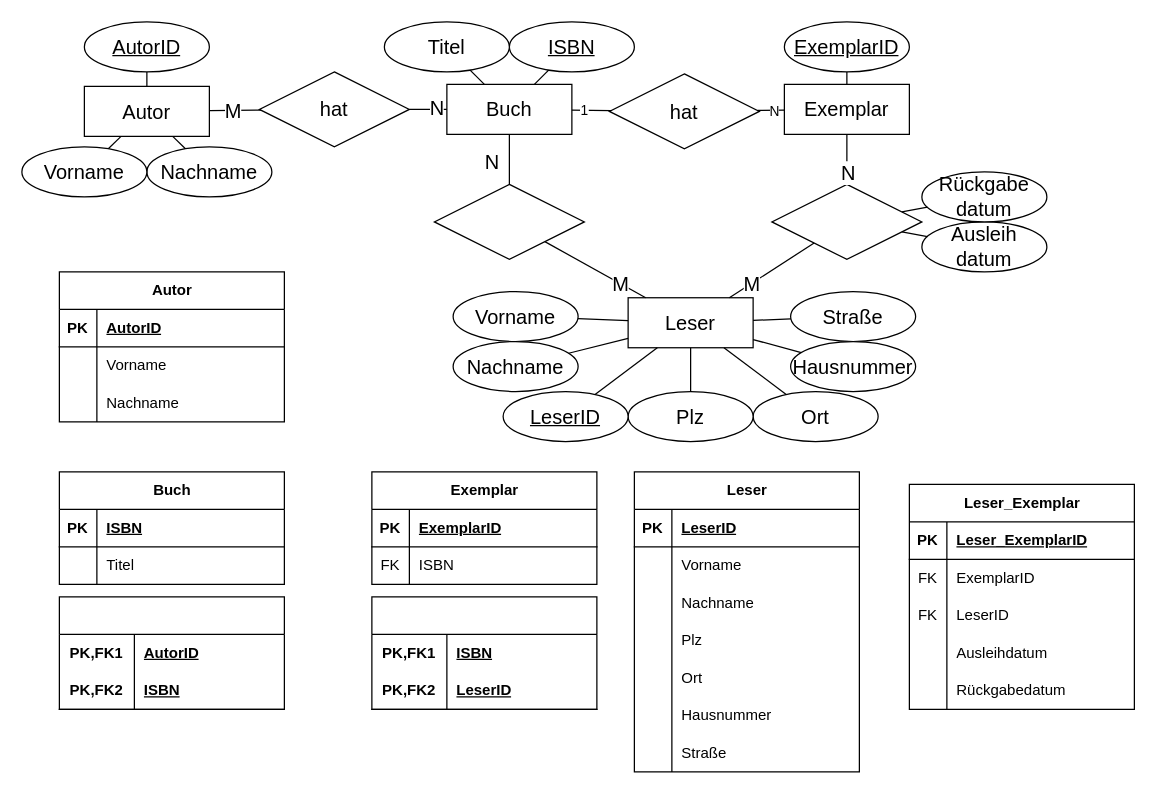
The diagram is 1156 pixels wide and 794 high, and some of its shapes have lost their labels. Here are the shapes that lost their labels. From the top down, the box of each, then its label:
(433, 183, 584, 259): Bestellt vor
(771, 183, 922, 259): leiht aus
(58, 596, 284, 709): Autor_Buch
(371, 596, 597, 709): Leser_Buch
